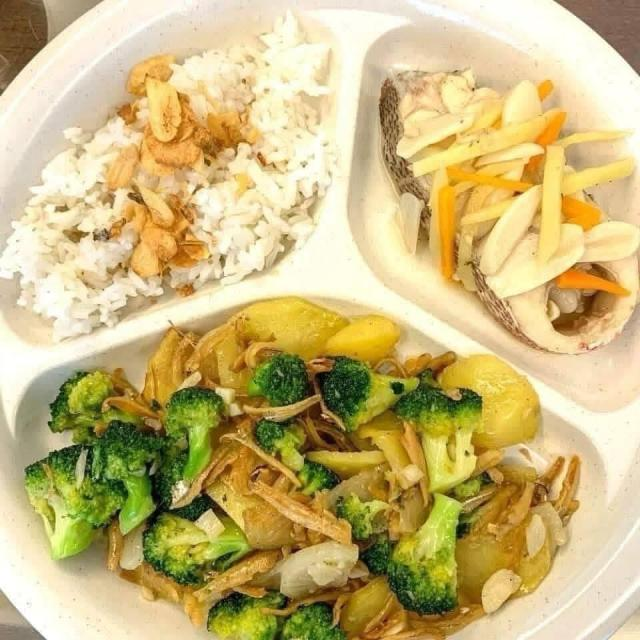Fish: (382, 68, 639, 353)
Rice: (0, 17, 338, 339)
Vegetables: (27, 294, 584, 639), (399, 80, 639, 304)
